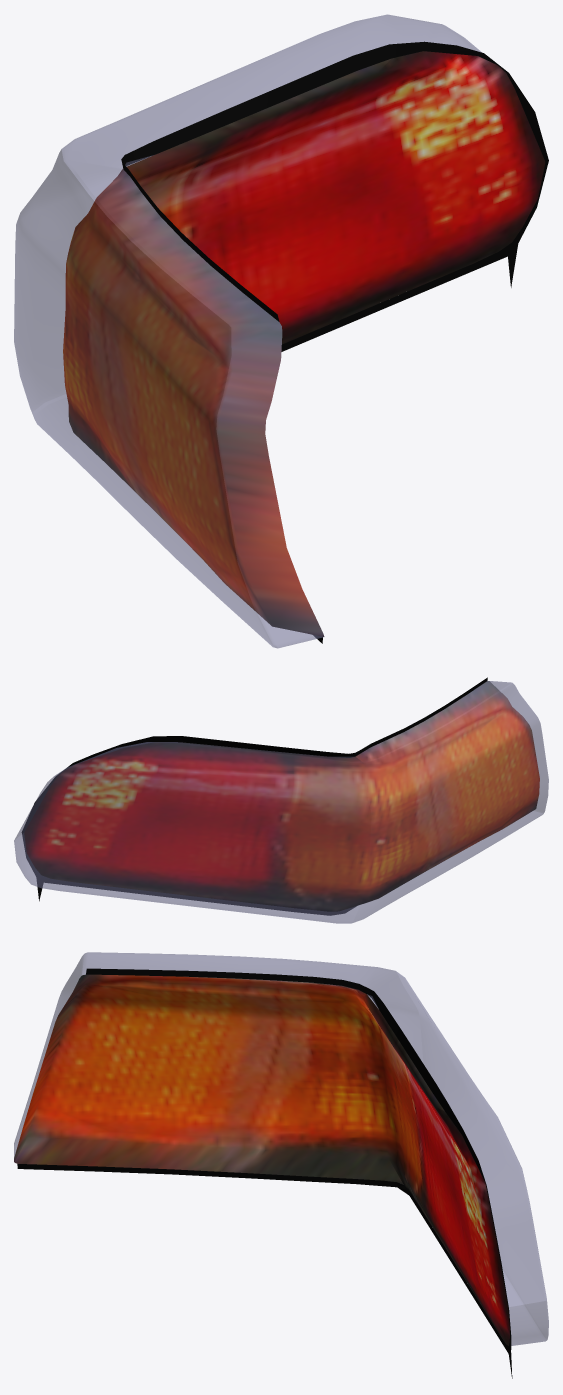
The picture shows the model from 3 angles, top to bottom: view 1: azimuth 30°, elevation 25°; view 2: azimuth 150°, elevation 25°; view 3: azimuth 270°, elevation 25°; orthographic projection. The views are drawn at different scales.
Parts seen in each view (by area): view 1: Y173_541C_L_Y173_541C_L_1_N, Y173_541C_L_Y173_541C_L_2_DTaSI, Y173_541C_L_3_D_Y173_541C_L; view 2: Y173_541C_L_Y173_541C_L_2_DTaSI, Y173_541C_L_Y173_541C_L_1_N, Y173_541C_L_3_D_Y173_541C_L; view 3: Y173_541C_L_Y173_541C_L_1_N, Y173_541C_L_Y173_541C_L_2_DTaSI, Y173_541C_L_3_D_Y173_541C_L.
Boxes of the visible parts, x1,y1,x2,y2 form: Y173_541C_L_Y173_541C_L_1_N: [63, 51, 545, 636]; Y173_541C_L_Y173_541C_L_2_DTaSI: [14, 14, 481, 648]; Y173_541C_L_3_D_Y173_541C_L: [121, 41, 548, 643]; Y173_541C_L_Y173_541C_L_2_DTaSI: [14, 681, 548, 923]; Y173_541C_L_Y173_541C_L_1_N: [24, 681, 539, 911]; Y173_541C_L_3_D_Y173_541C_L: [22, 677, 487, 915]; Y173_541C_L_Y173_541C_L_1_N: [14, 974, 510, 1345]; Y173_541C_L_Y173_541C_L_2_DTaSI: [14, 952, 548, 1345]; Y173_541C_L_3_D_Y173_541C_L: [17, 968, 512, 1378].
Bounding box in the file's own units: 27.28 × 13.21 × 27.79.
